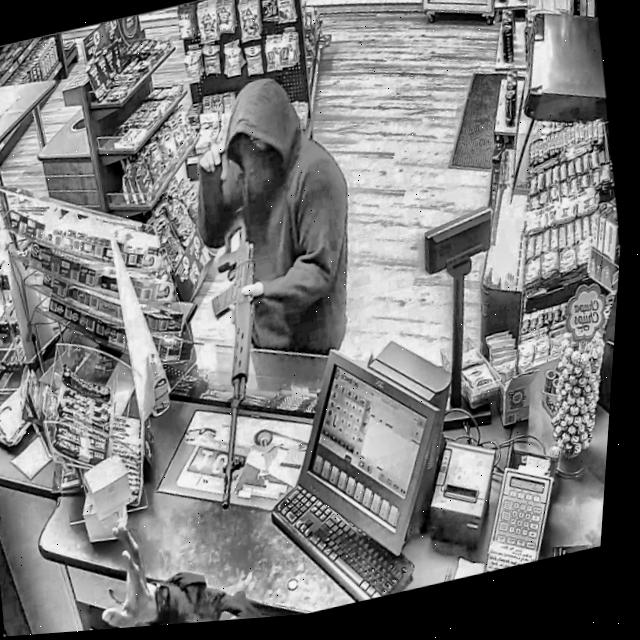pistol: (203, 218, 271, 531)
robbery: (77, 67, 370, 631)
